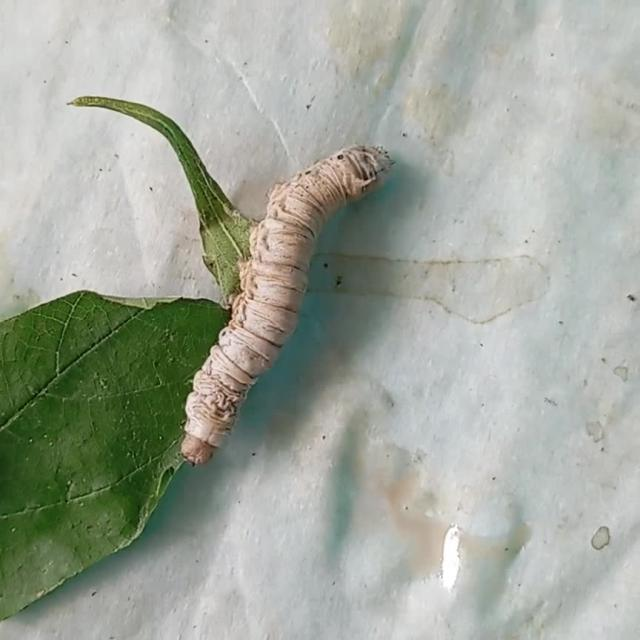Grasserie: (175, 136, 405, 472)
